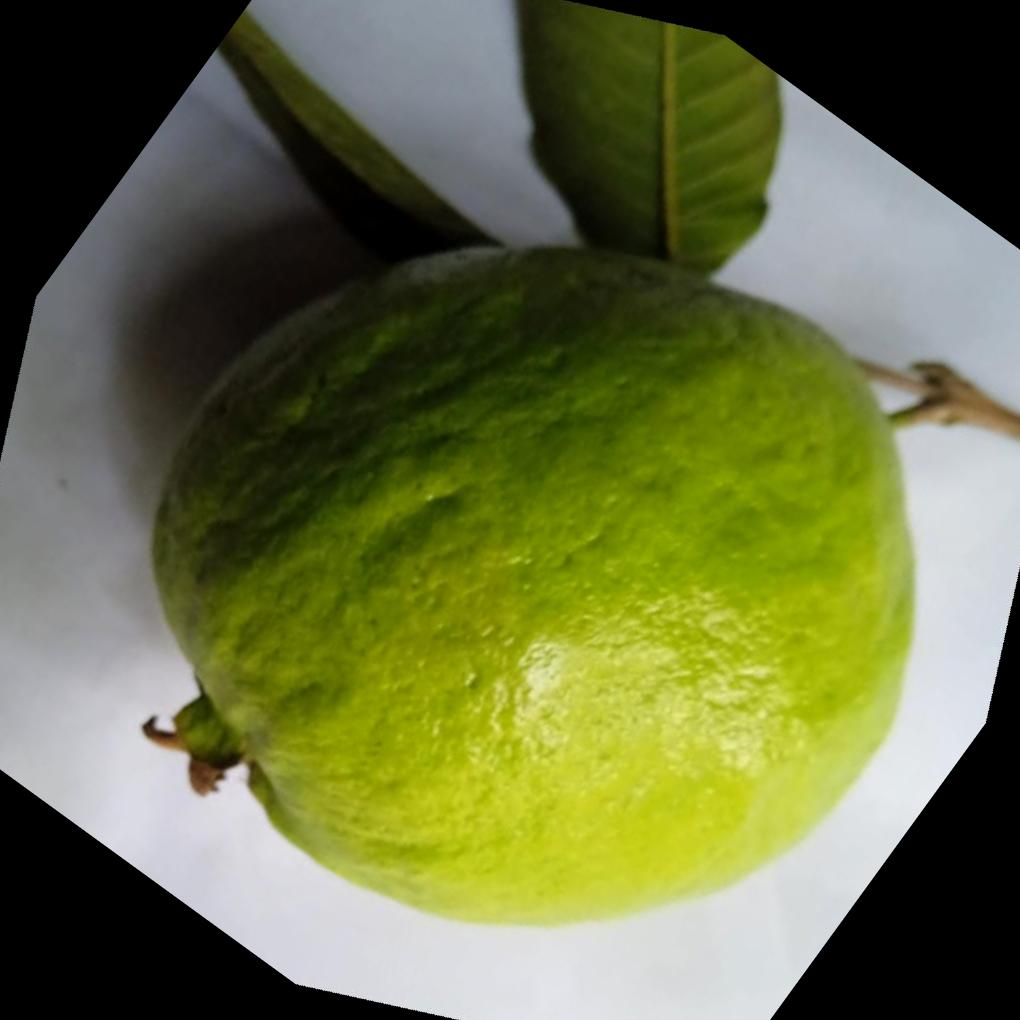FreshGuava: (146, 240, 917, 929)
